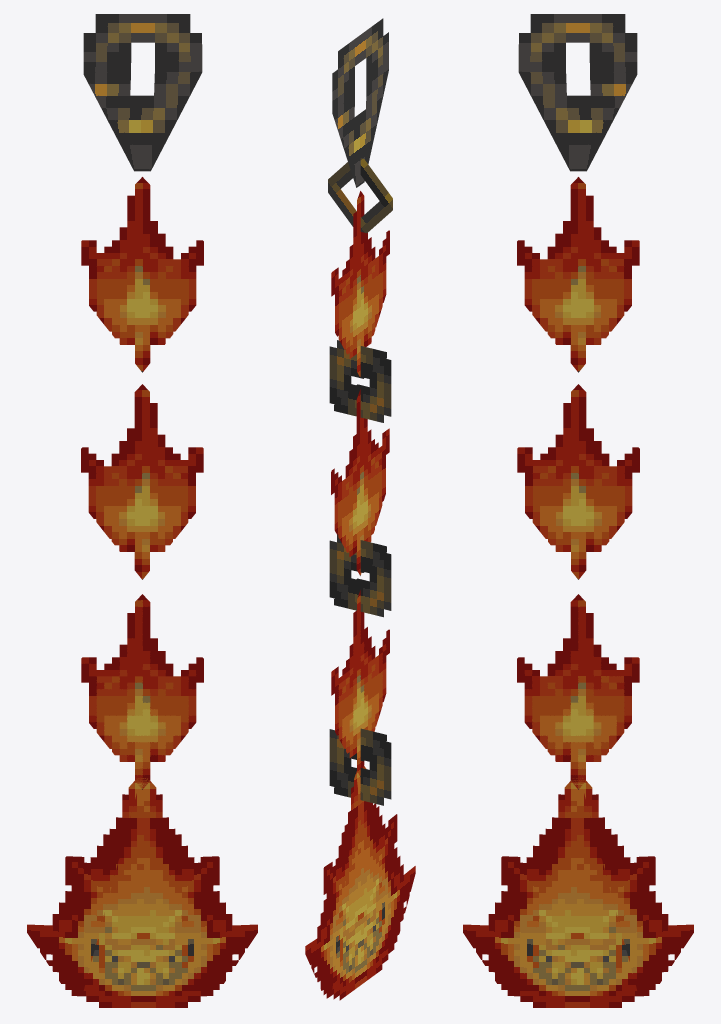
The model's file is frolicflame_keychain.obj.
The picture shows the model from 3 angles, left to right: view 1: azimuth 90°, elevation 25°; view 2: azimuth 150°, elevation 25°; view 3: azimuth 270°, elevation 25°; orthographic projection. The views are drawn at different scales.
Visible parts, largest first — view 1: keychain; view 2: keychain; view 3: keychain.
Boxes of the visible parts, x1,y1,x2,y2 form: keychain: (27, 14, 257, 1007); keychain: (305, 18, 415, 1000); keychain: (463, 14, 693, 1007).
Size of the model in its own units: 2.72 by 38.12 by 8.88.
